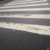zebra: (1, 1, 49, 35)
